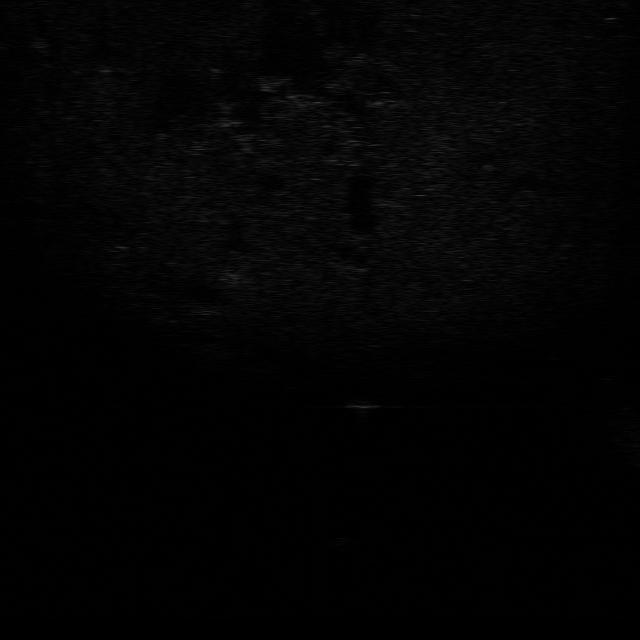square cage: (345, 396, 381, 414)
